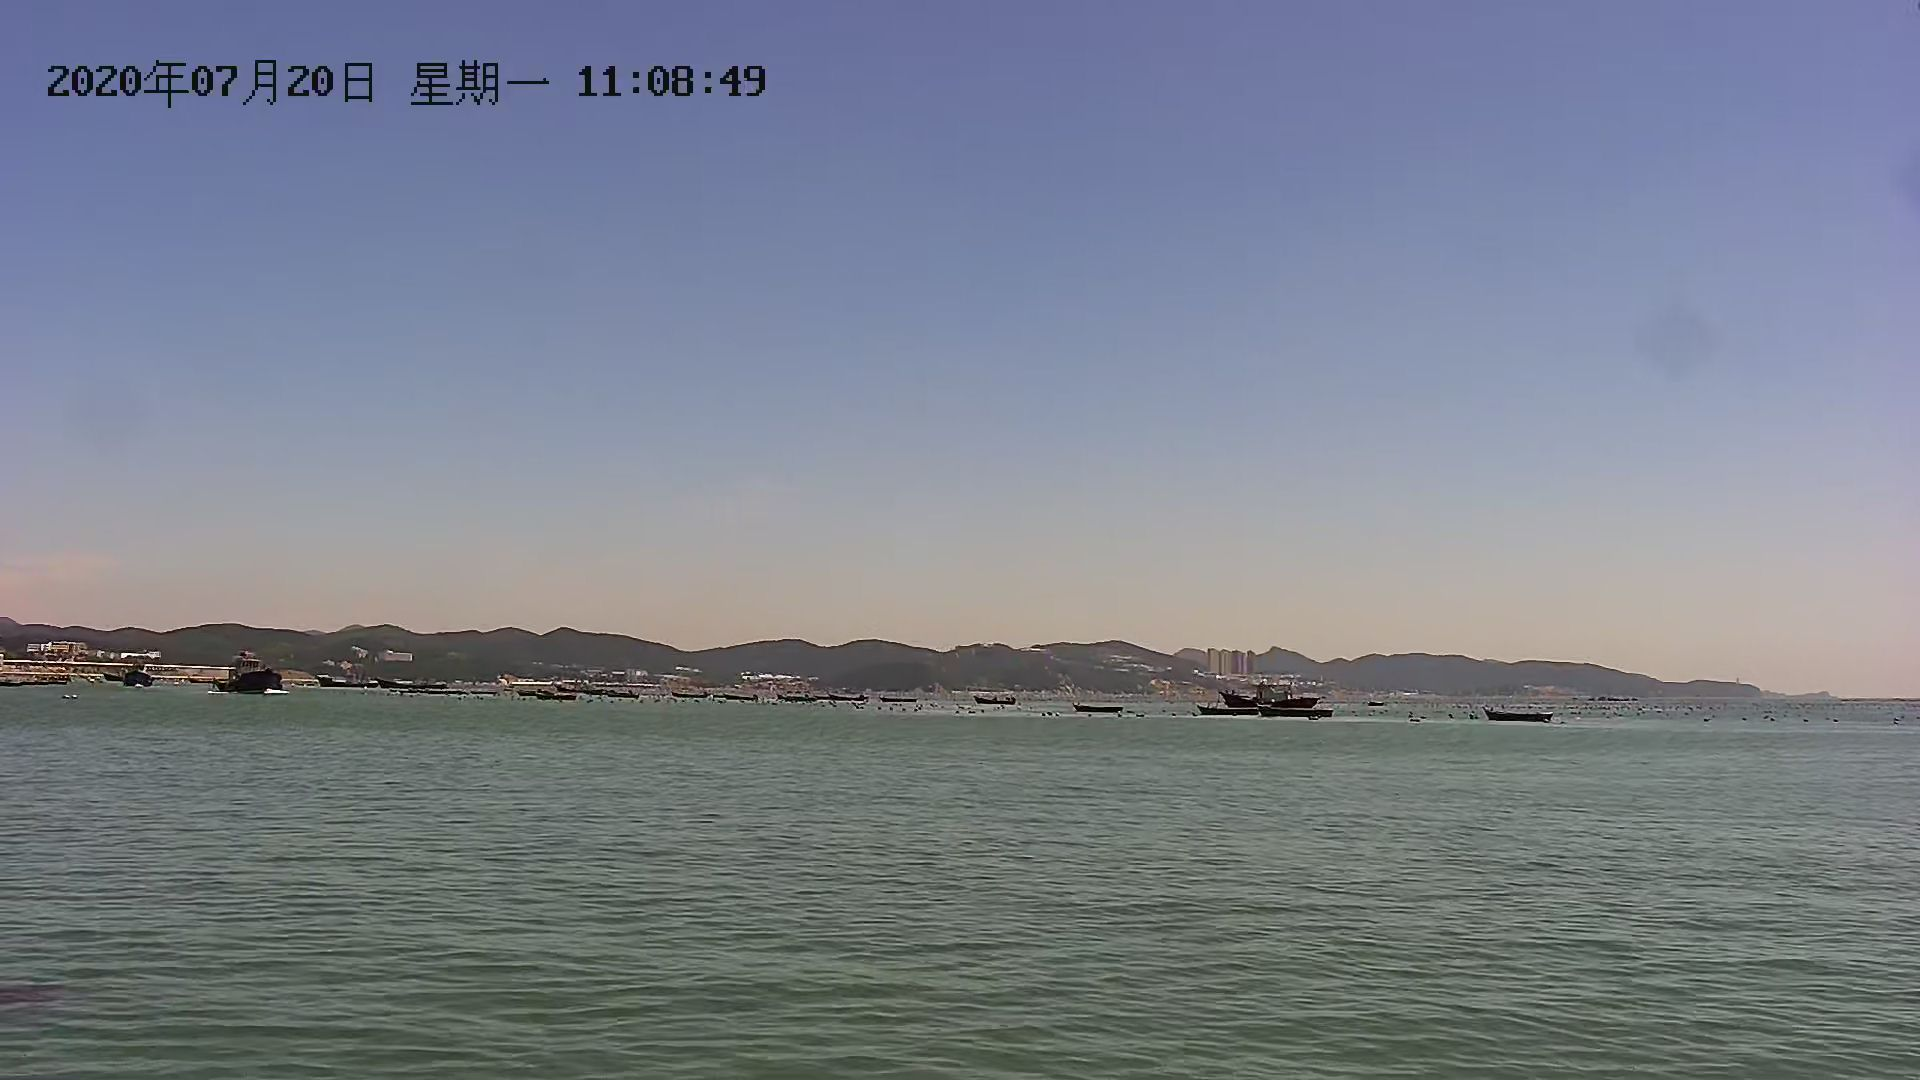boat: (1215, 683, 1348, 724), (108, 659, 171, 691), (1487, 704, 1552, 728), (1262, 702, 1331, 720)
ship: (215, 654, 284, 698)
